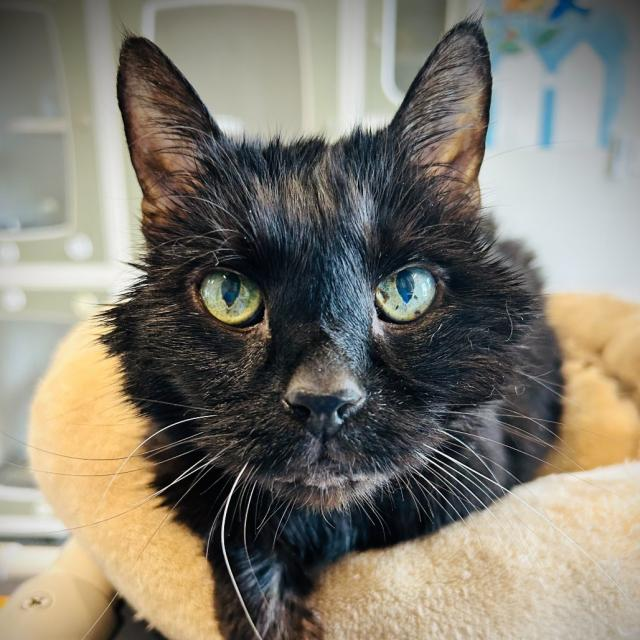manx_cat: (87, 8, 557, 534)
